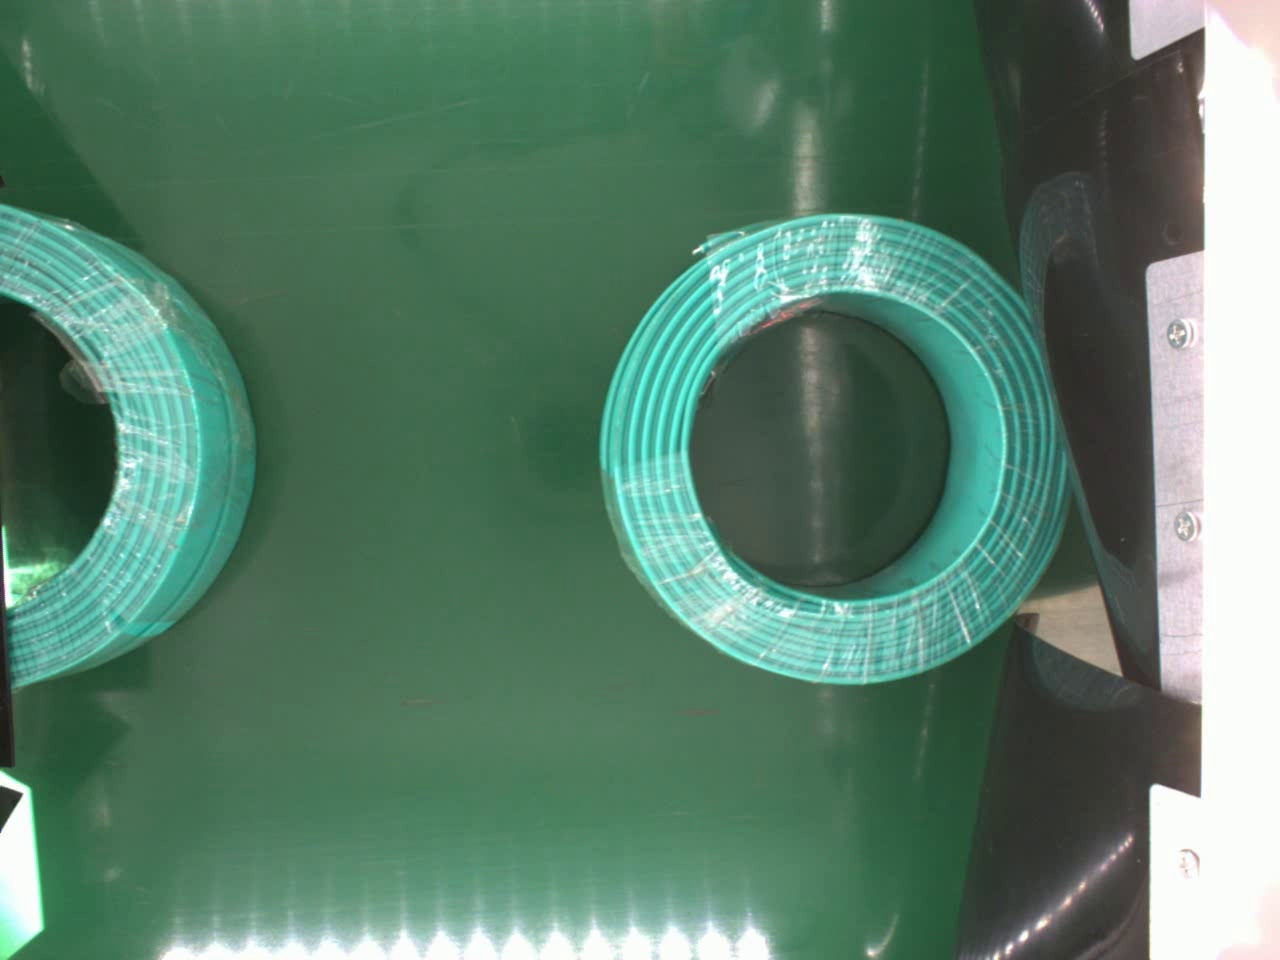green: (591, 211, 1071, 688), (0, 204, 266, 696)
